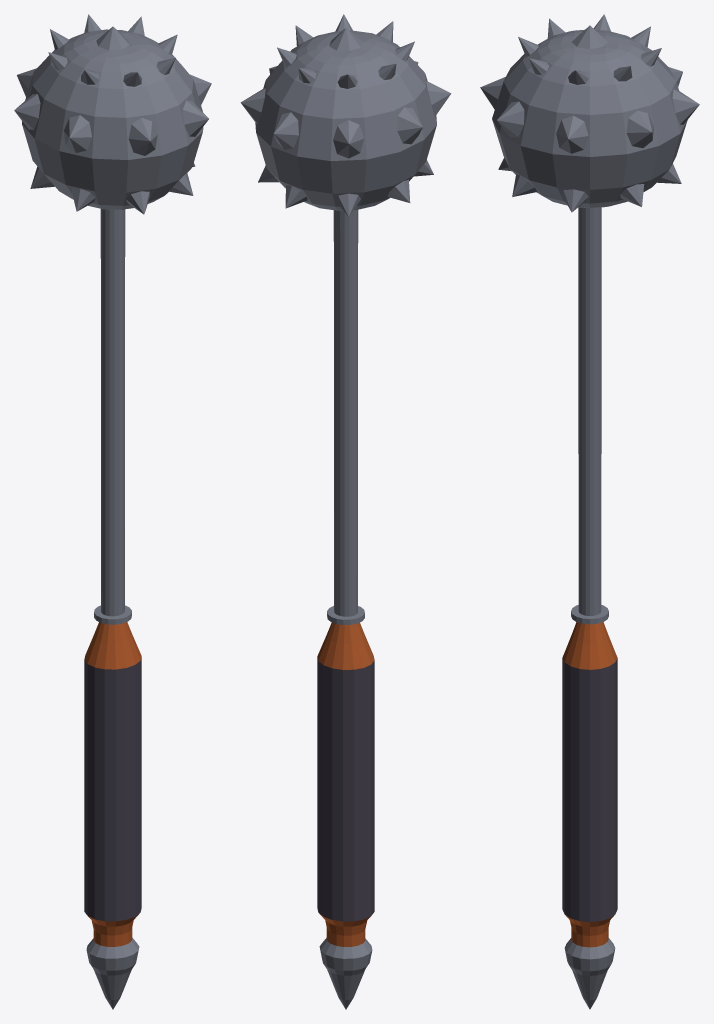
The model's file is claves.glb.
3 views of the same model, side by side, from view 1: azimuth 30°, elevation 25°; view 2: azimuth 150°, elevation 25°; view 3: azimuth 270°, elevation 25° (orthographic).
Parts seen in each view (by area): view 1: Clave.001; view 2: Clave.001; view 3: Clave.001.
Boxes of the visible parts, box(x1,y1,x2,y2) form: Clave.001: box(14, 14, 211, 1009); Clave.001: box(240, 14, 451, 1009); Clave.001: box(480, 14, 699, 1009).
Bounding box in the file's own units: 0.1684 × 0.9 × 0.1822.
